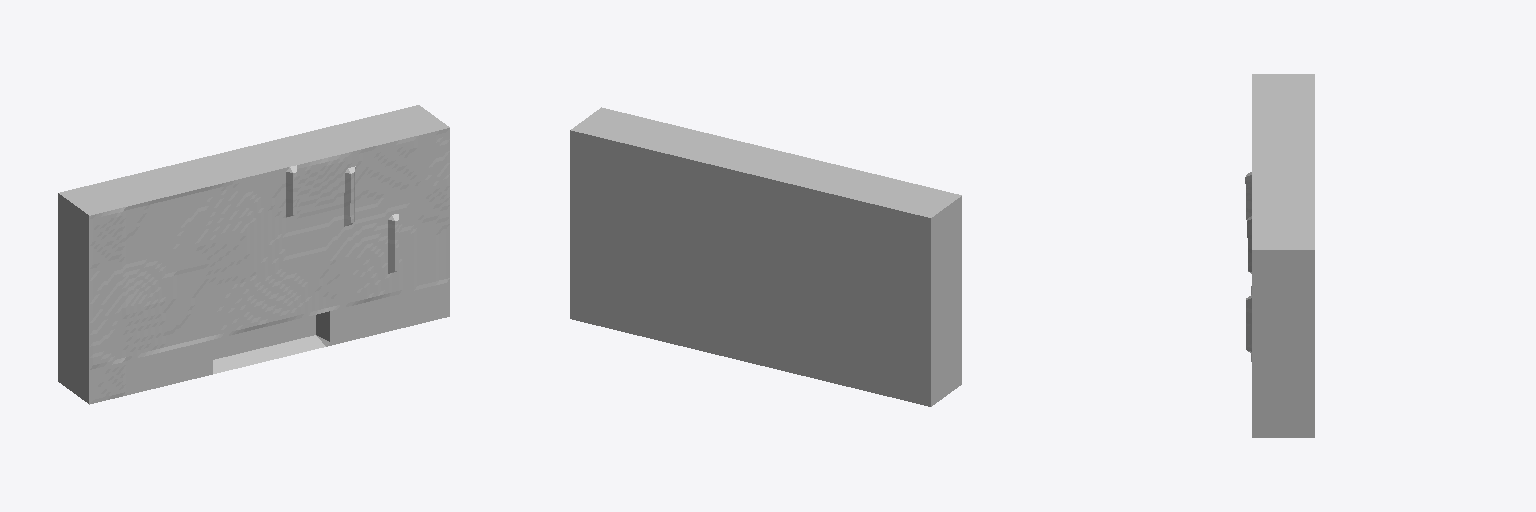
Rendered from rectangular_prism_bumps_2_2.obj.
3 views of the same model, side by side, from view 1: azimuth 30°, elevation 25°; view 2: azimuth 150°, elevation 25°; view 3: azimuth 270°, elevation 25° (orthographic).
Bounding box in the file's own units: 10 × 5 × 1.67.